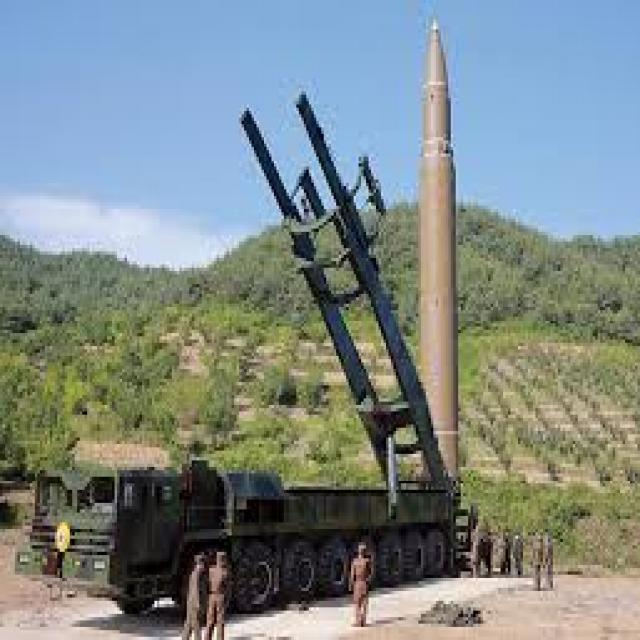Missile: (417, 6, 469, 492)
